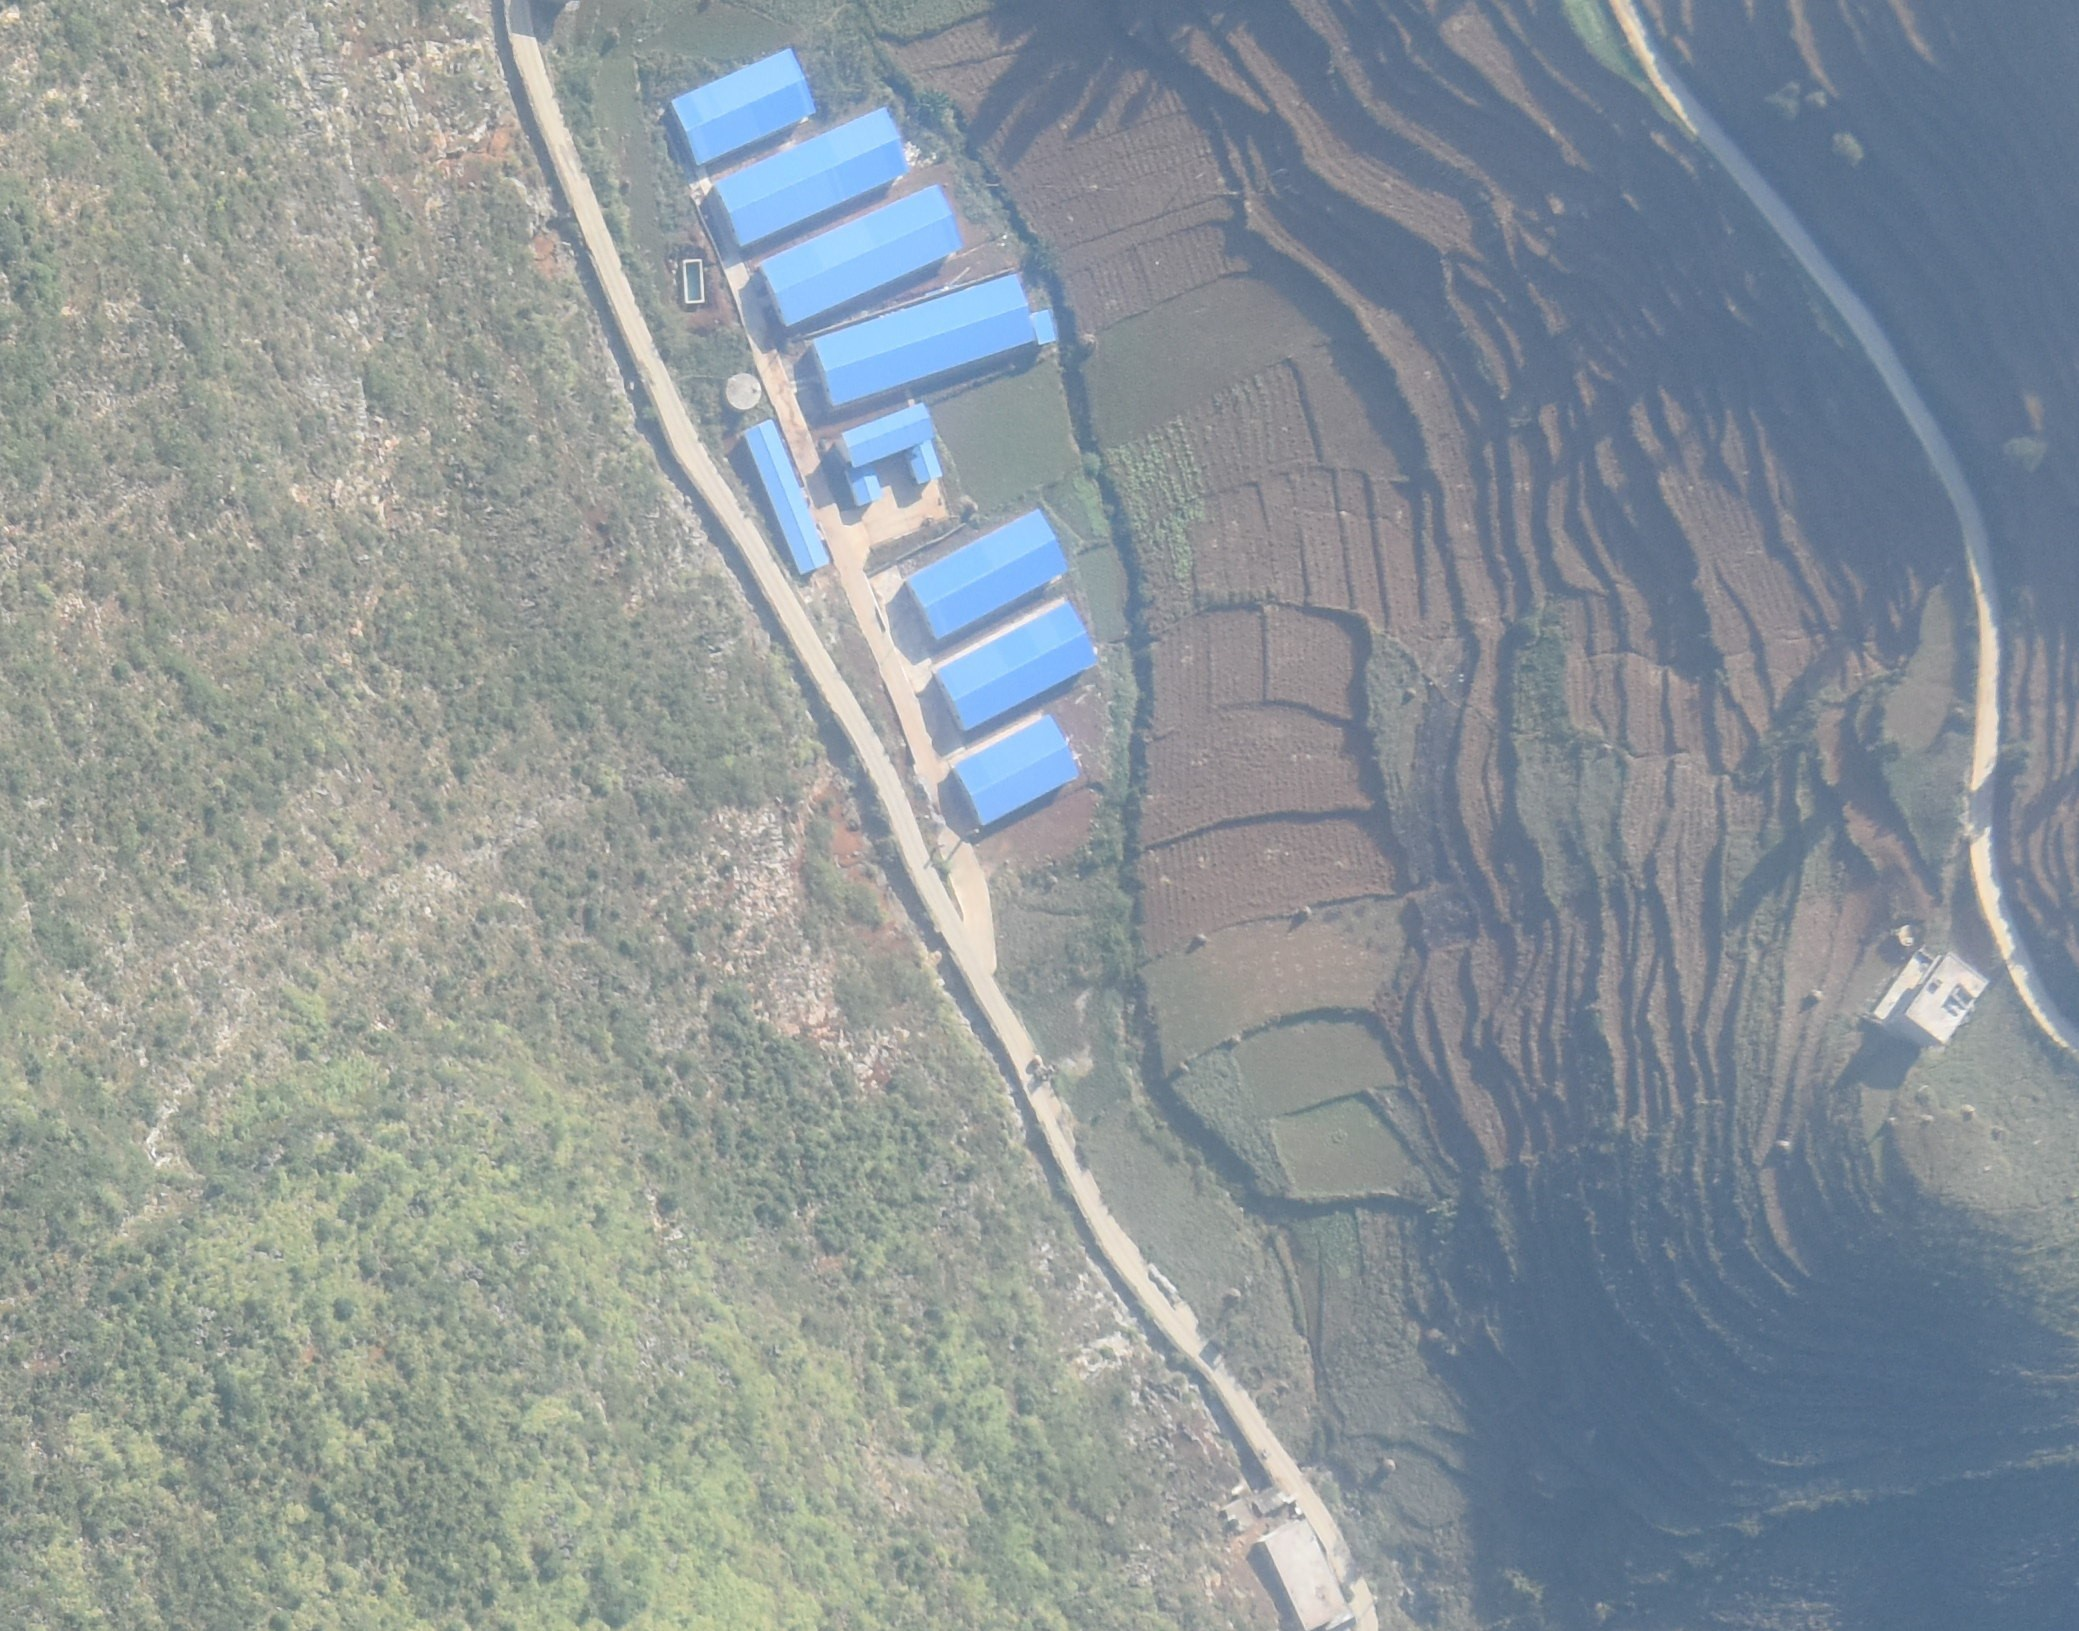building: (1875, 946, 1995, 1046), (1262, 1521, 1358, 1629)
prefabricated-house: (759, 180, 964, 327), (817, 273, 1038, 406), (712, 106, 911, 250), (910, 508, 1072, 638), (937, 602, 1097, 730), (668, 47, 813, 169), (953, 713, 1078, 832), (741, 417, 827, 575), (839, 401, 938, 466), (840, 459, 886, 508), (910, 435, 942, 482), (1029, 307, 1056, 347)
well: (726, 371, 763, 410), (1897, 924, 1924, 951)
